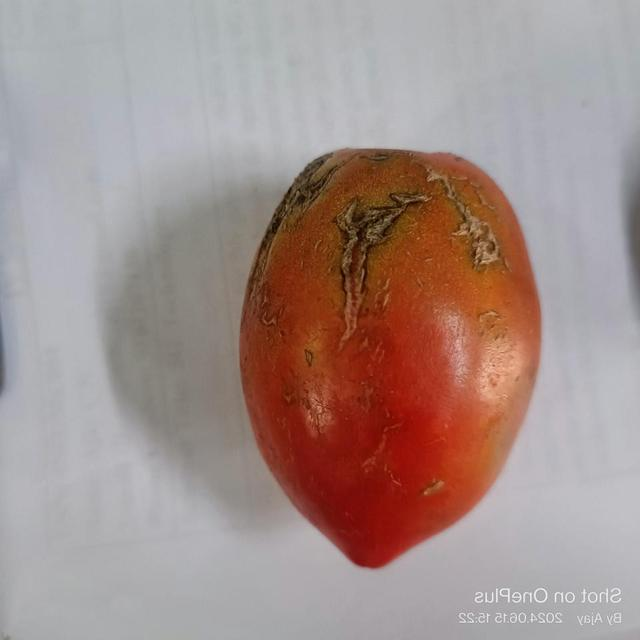Cracking Fruit: (217, 158, 329, 214)
